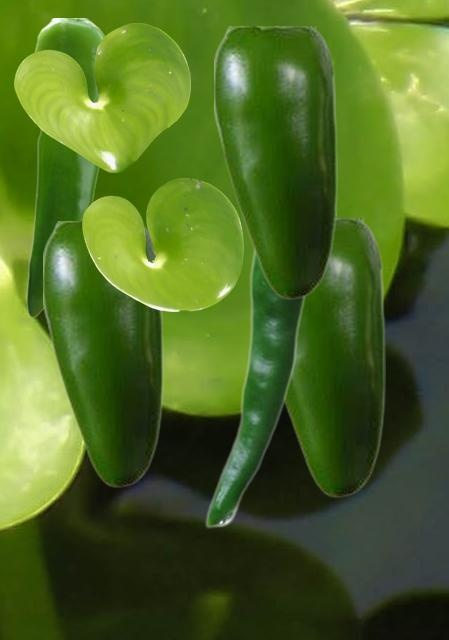green_chili: (214, 26, 336, 299), (43, 221, 162, 487), (204, 250, 308, 527), (283, 218, 384, 497), (26, 18, 105, 316)
